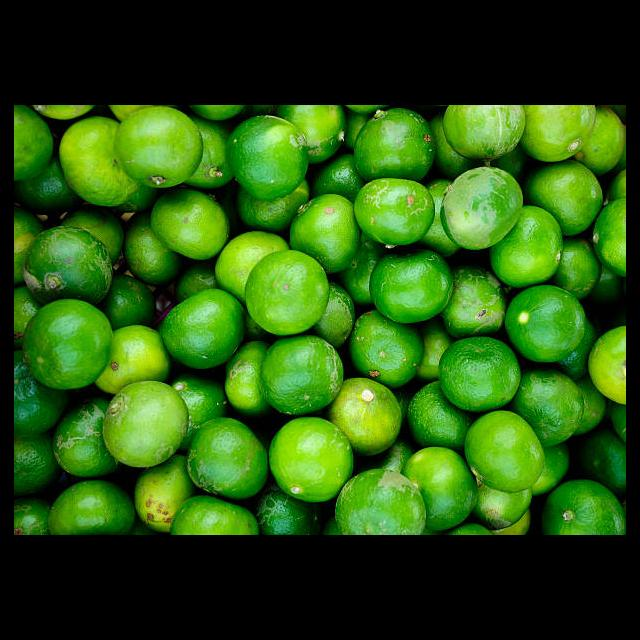lime: (440, 167, 526, 252), (116, 107, 202, 189), (505, 284, 588, 364), (333, 469, 428, 535), (328, 378, 403, 458), (352, 178, 436, 248)
